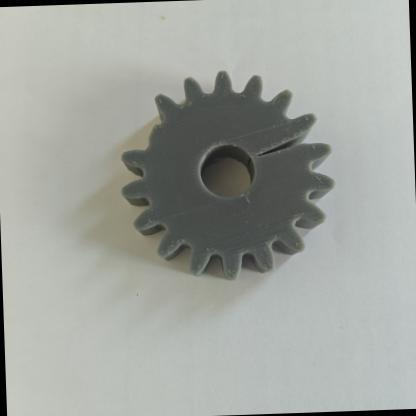defect: (244, 110, 336, 174), (113, 98, 177, 178)
gear: (84, 51, 370, 309)
